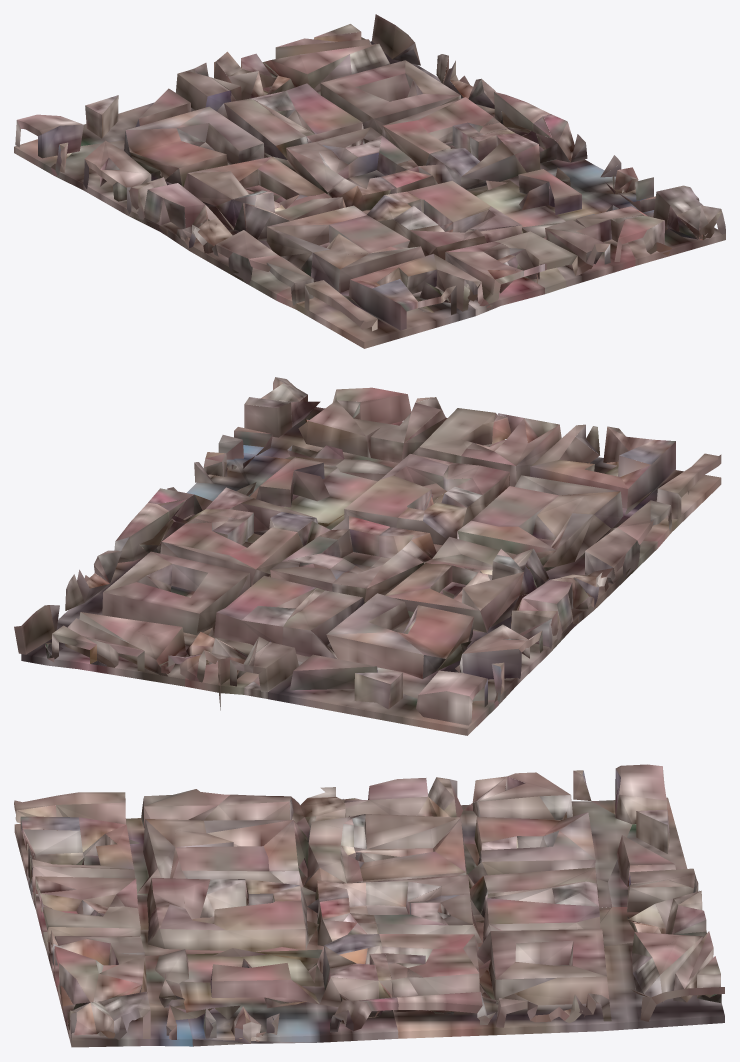
3 views of the same model, one above another, from view 1: azimuth 30°, elevation 25°; view 2: azimuth 150°, elevation 25°; view 3: azimuth 270°, elevation 25° (orthographic). The views are drawn at different scales.
Visible parts, largest first — view 1: Mesh_0; view 2: Mesh_0; view 3: Mesh_0.
Part boxes in pixels (bbox=[...]): Mesh_0: bbox=[14, 14, 725, 348]; Mesh_0: bbox=[14, 377, 721, 735]; Mesh_0: bbox=[14, 764, 724, 1047].
Bounding box in the file's own units: 532 × 66.78 × 660.
2 materials, 2 textured.
